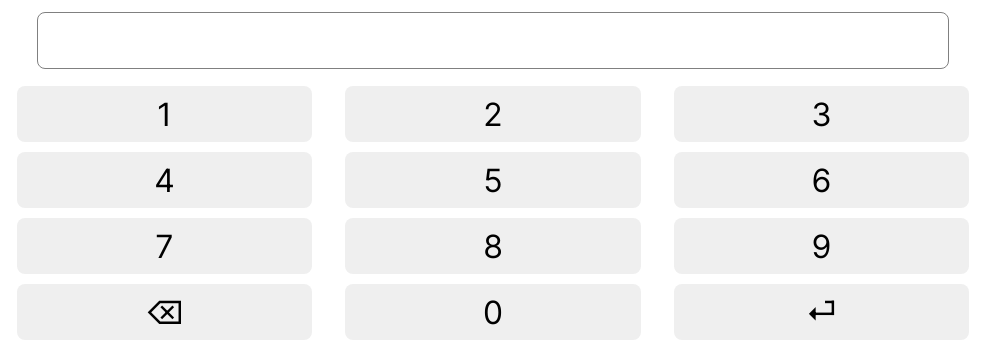
Form › replaces incomplete numpad input when keyboard input is used
Click the button "1": (164, 114) [17,86,312,142]
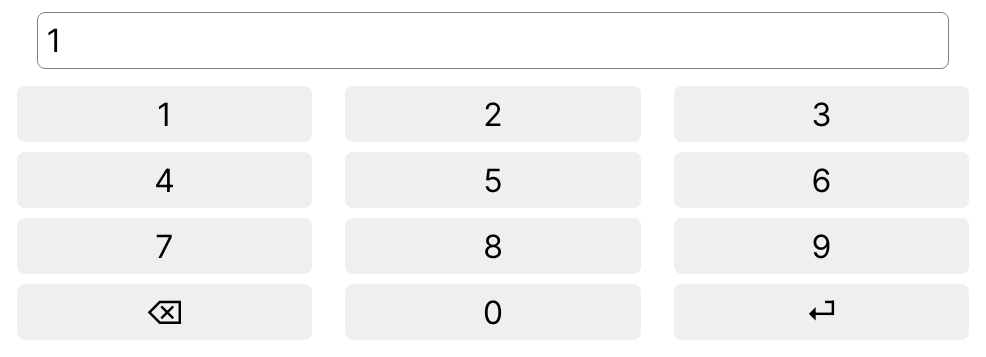
Click the button "2": (493, 114) [345,86,641,142]
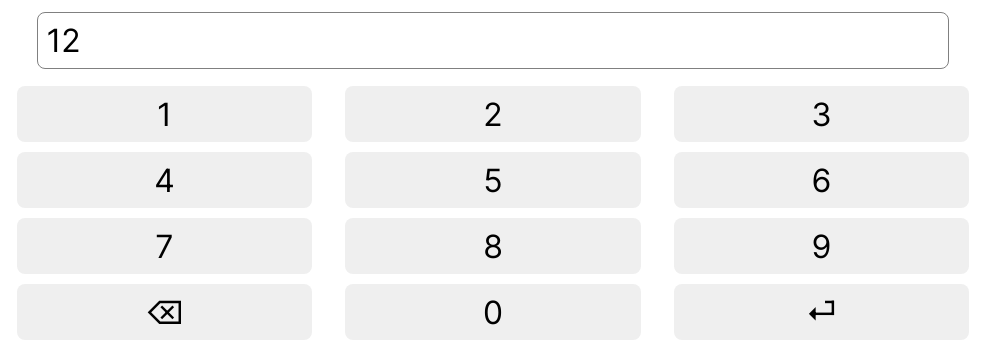
Expected: the field named "id-number" holds "12"
Note: Browser value would be "123" if the user typed "3" after entering "12" on the numpad.
Replace the text in the field named "id-number" with "123": (493, 40) [37,12,949,69]
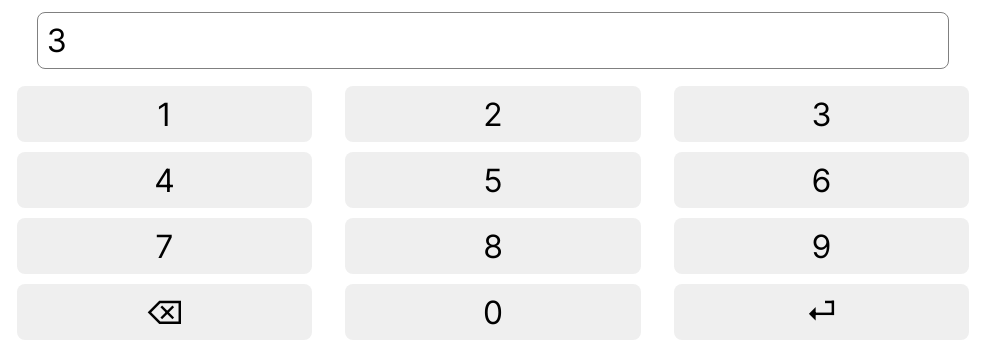
Expected: the field named "id-number" holds "3", [37,12,949,69]
